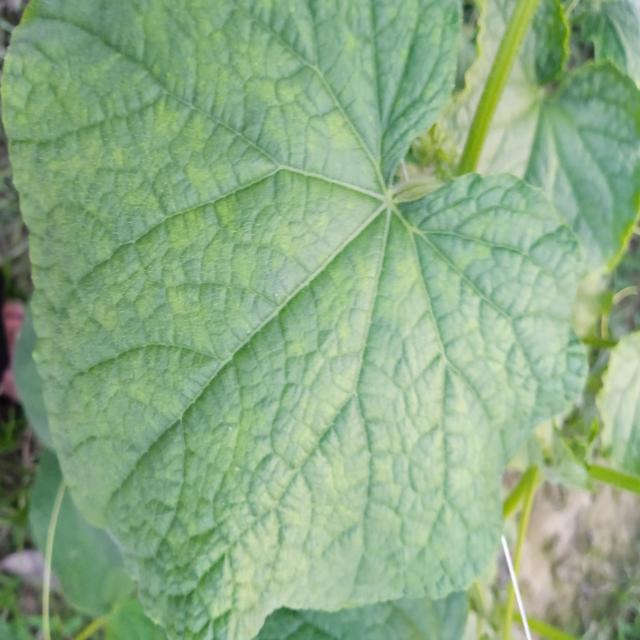cucumber_healthy: (0, 0, 590, 640), (453, 0, 640, 280)
